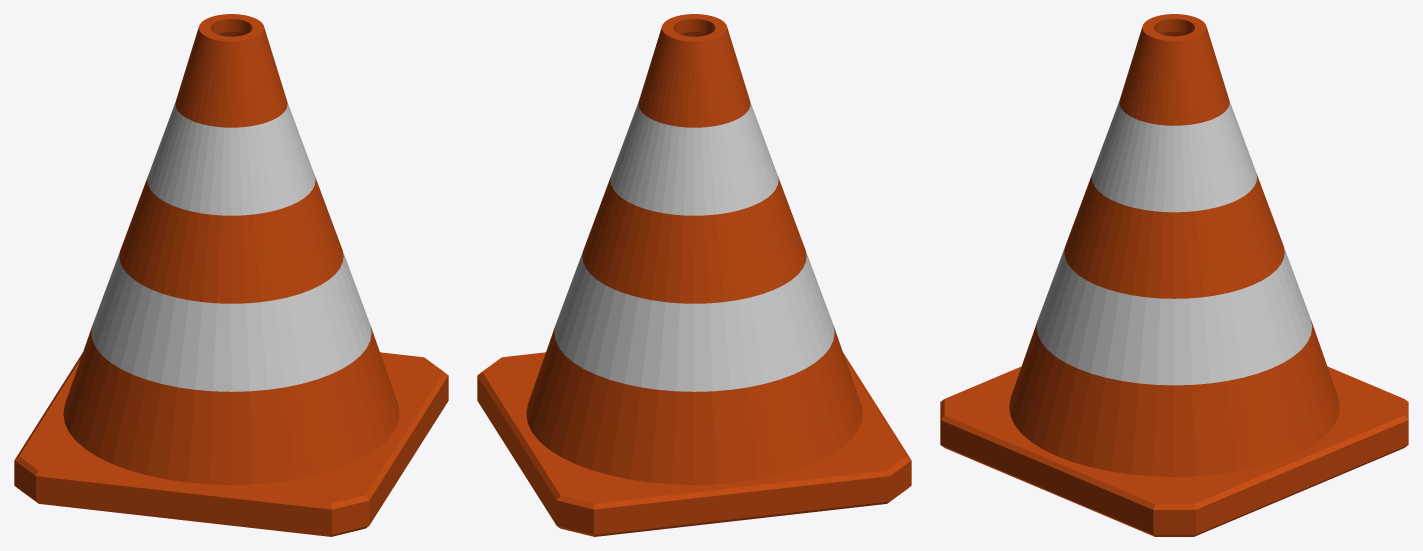
File: trafficCone.glb
3 views of the same model, side by side, from view 1: azimuth 30°, elevation 25°; view 2: azimuth 150°, elevation 25°; view 3: azimuth 270°, elevation 25° (orthographic).
Visible parts, largest first — view 1: Mesh_Mesh_head_geo001_lambert2SG001; view 2: Mesh_Mesh_head_geo001_lambert2SG001; view 3: Mesh_Mesh_head_geo001_lambert2SG001.
Boxes of the visible parts, x1,y1,x2,y2 form: Mesh_Mesh_head_geo001_lambert2SG001: (14, 14, 448, 536); Mesh_Mesh_head_geo001_lambert2SG001: (477, 14, 911, 536); Mesh_Mesh_head_geo001_lambert2SG001: (940, 14, 1408, 536).
Size of the model in its own units: 85 by 82.55 by 85.
